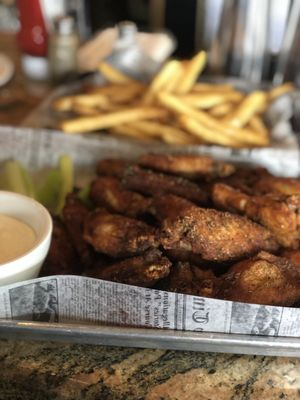sandwich: (1, 275, 299, 354)
sushi: (0, 190, 53, 287)
